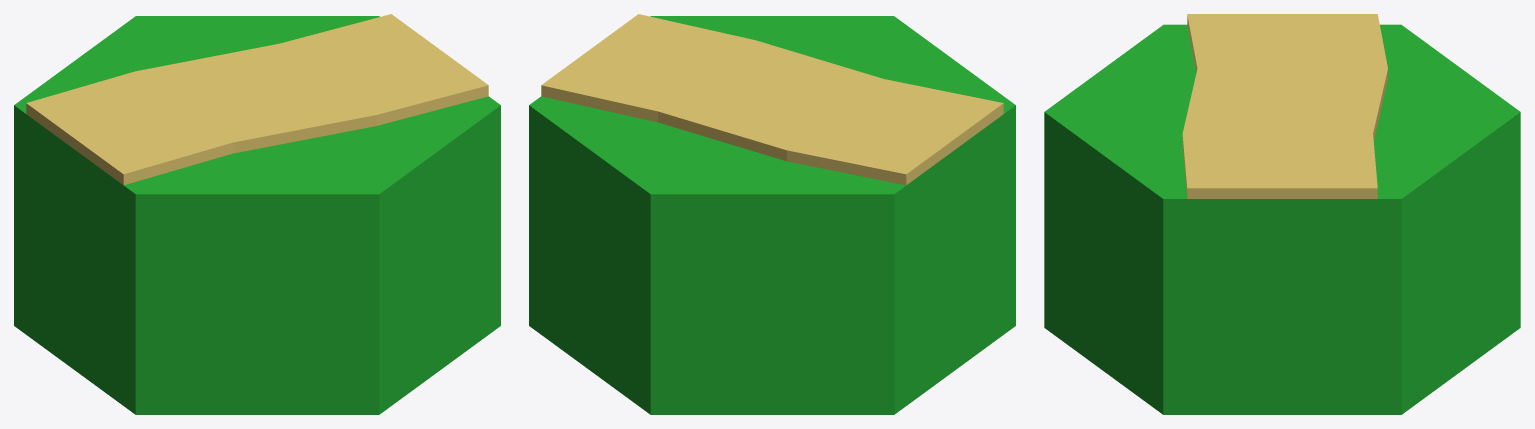
The model's file is tile-infrastructure-pathway_straight_corner.glb.
The picture shows the model from 3 angles, left to right: view 1: azimuth 30°, elevation 25°; view 2: azimuth 150°, elevation 25°; view 3: azimuth 270°, elevation 25°; orthographic projection. The views are drawn at different scales.
Parts seen in each view (by area): view 1: tile-infrastructure-pathway_straight_corner; view 2: tile-infrastructure-pathway_straight_corner; view 3: tile-infrastructure-pathway_straight_corner.
Part boxes in pixels (x1,y1,x2,y2): tile-infrastructure-pathway_straight_corner: (14,14,500,414); tile-infrastructure-pathway_straight_corner: (529,14,1015,414); tile-infrastructure-pathway_straight_corner: (1044,14,1520,414).
Bounding box in the file's own units: 0.866 × 0.525 × 1.
